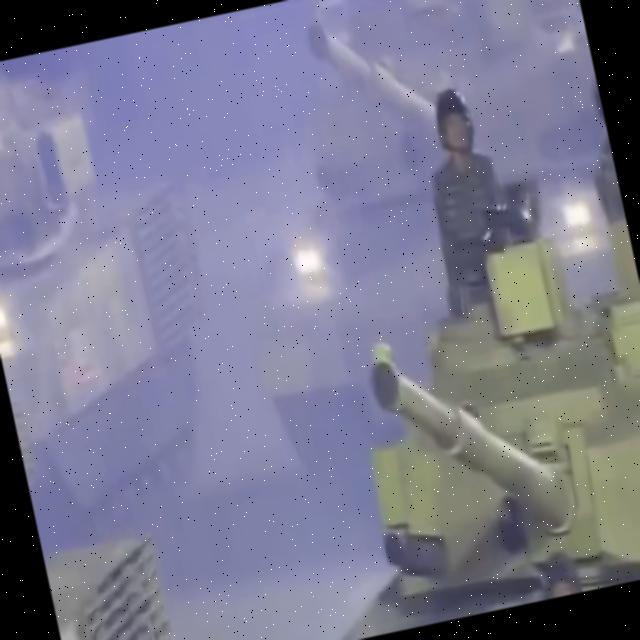north tank: (189, 147, 640, 640), (0, 30, 255, 559)
